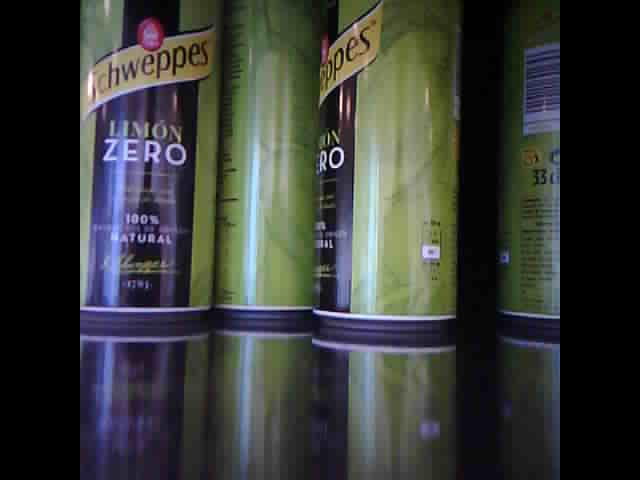schweppes: (311, 4, 462, 331), (80, 6, 221, 325), (212, 2, 319, 316), (494, 23, 560, 324)
